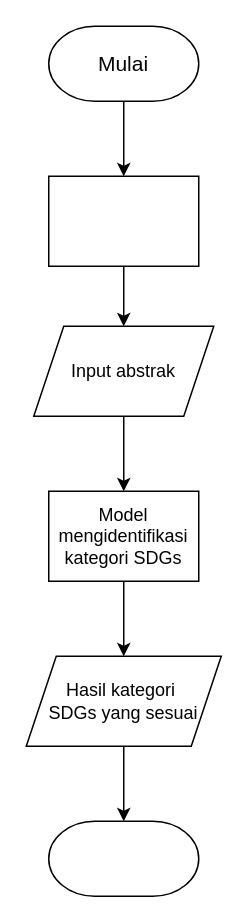
The diagram is 248 pixels wide and 923 high, and some of its shapes have lost their labels. Here are the shapes that lost their labels. From the top down, the centre of each, then its label:
At pixel 123 220: "Load pretrained model".
At pixel 123 858: "Selesai".
